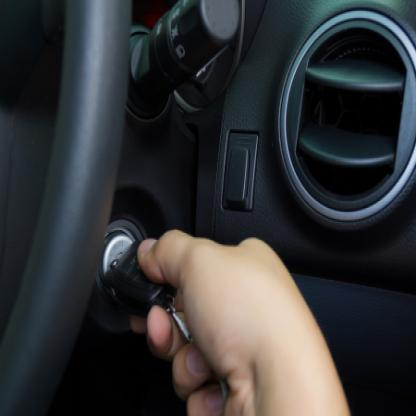keys: (113, 228, 195, 327)
